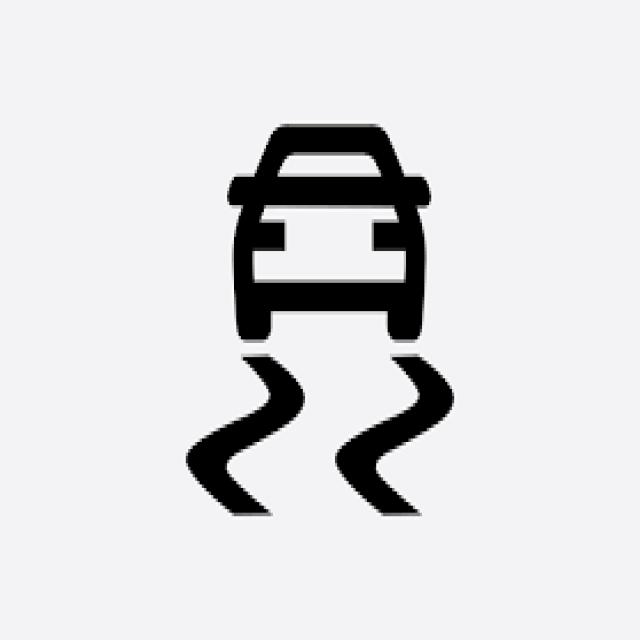kontrolka: (171, 80, 476, 544)
